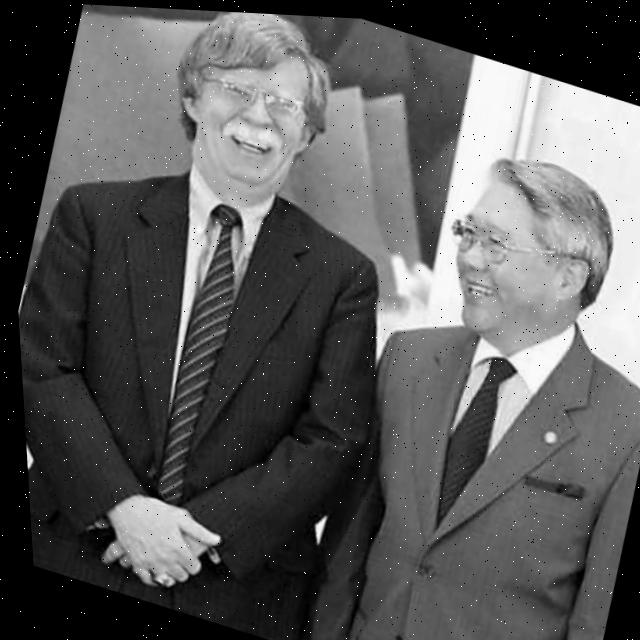face: (426, 160, 620, 379), (157, 13, 337, 217)
